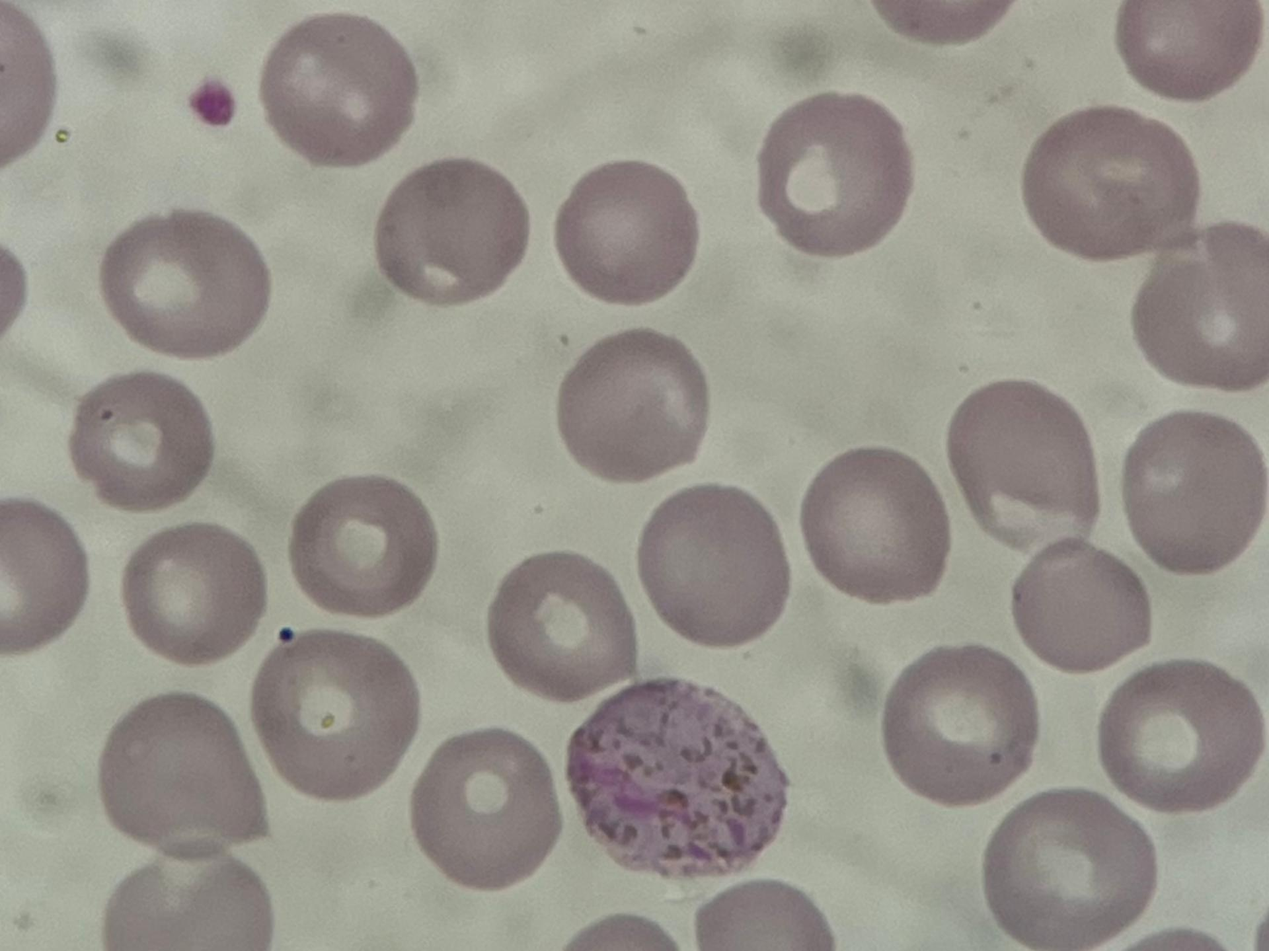Infected: (564, 681, 796, 884)
Uninfected: (251, 632, 420, 799), (96, 693, 268, 854), (943, 386, 1097, 559), (981, 792, 1152, 946), (1022, 108, 1192, 258), (758, 91, 917, 251), (405, 730, 561, 892), (882, 646, 1041, 804), (636, 485, 790, 646), (1095, 662, 1258, 814), (100, 211, 268, 358), (261, 15, 417, 165), (799, 448, 948, 602), (1133, 221, 1269, 389), (486, 553, 638, 703), (1121, 414, 1263, 574), (557, 333, 706, 482), (376, 160, 529, 303), (288, 476, 440, 618), (67, 369, 217, 510), (553, 161, 699, 303), (121, 523, 264, 665), (1009, 540, 1146, 672), (102, 852, 271, 948), (1117, 0, 1258, 99), (0, 501, 90, 653)
